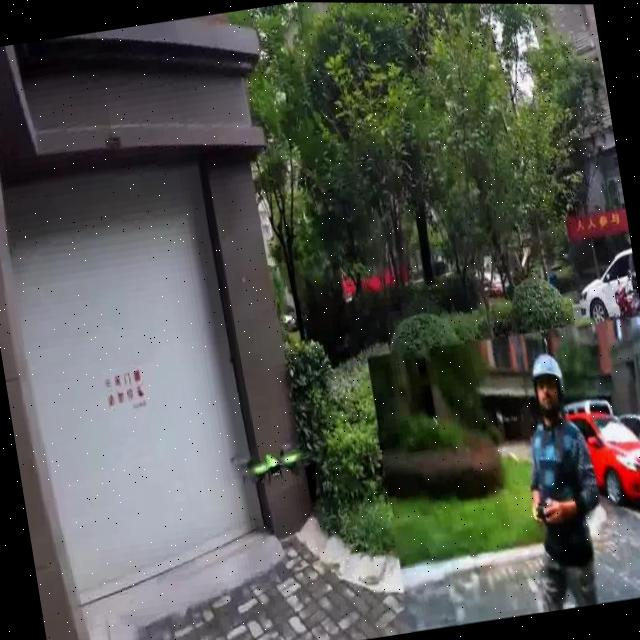drone: (226, 437, 318, 498)
